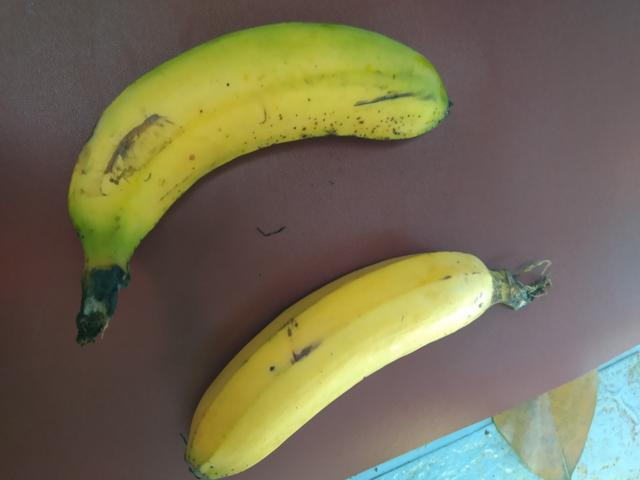freshripe: (175, 249, 546, 479)
ripe: (43, 15, 461, 260)
